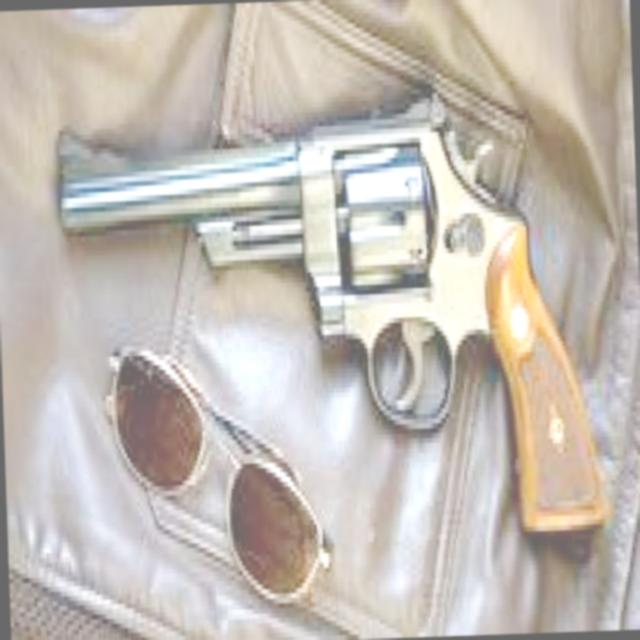revolver: (32, 0, 620, 557)
